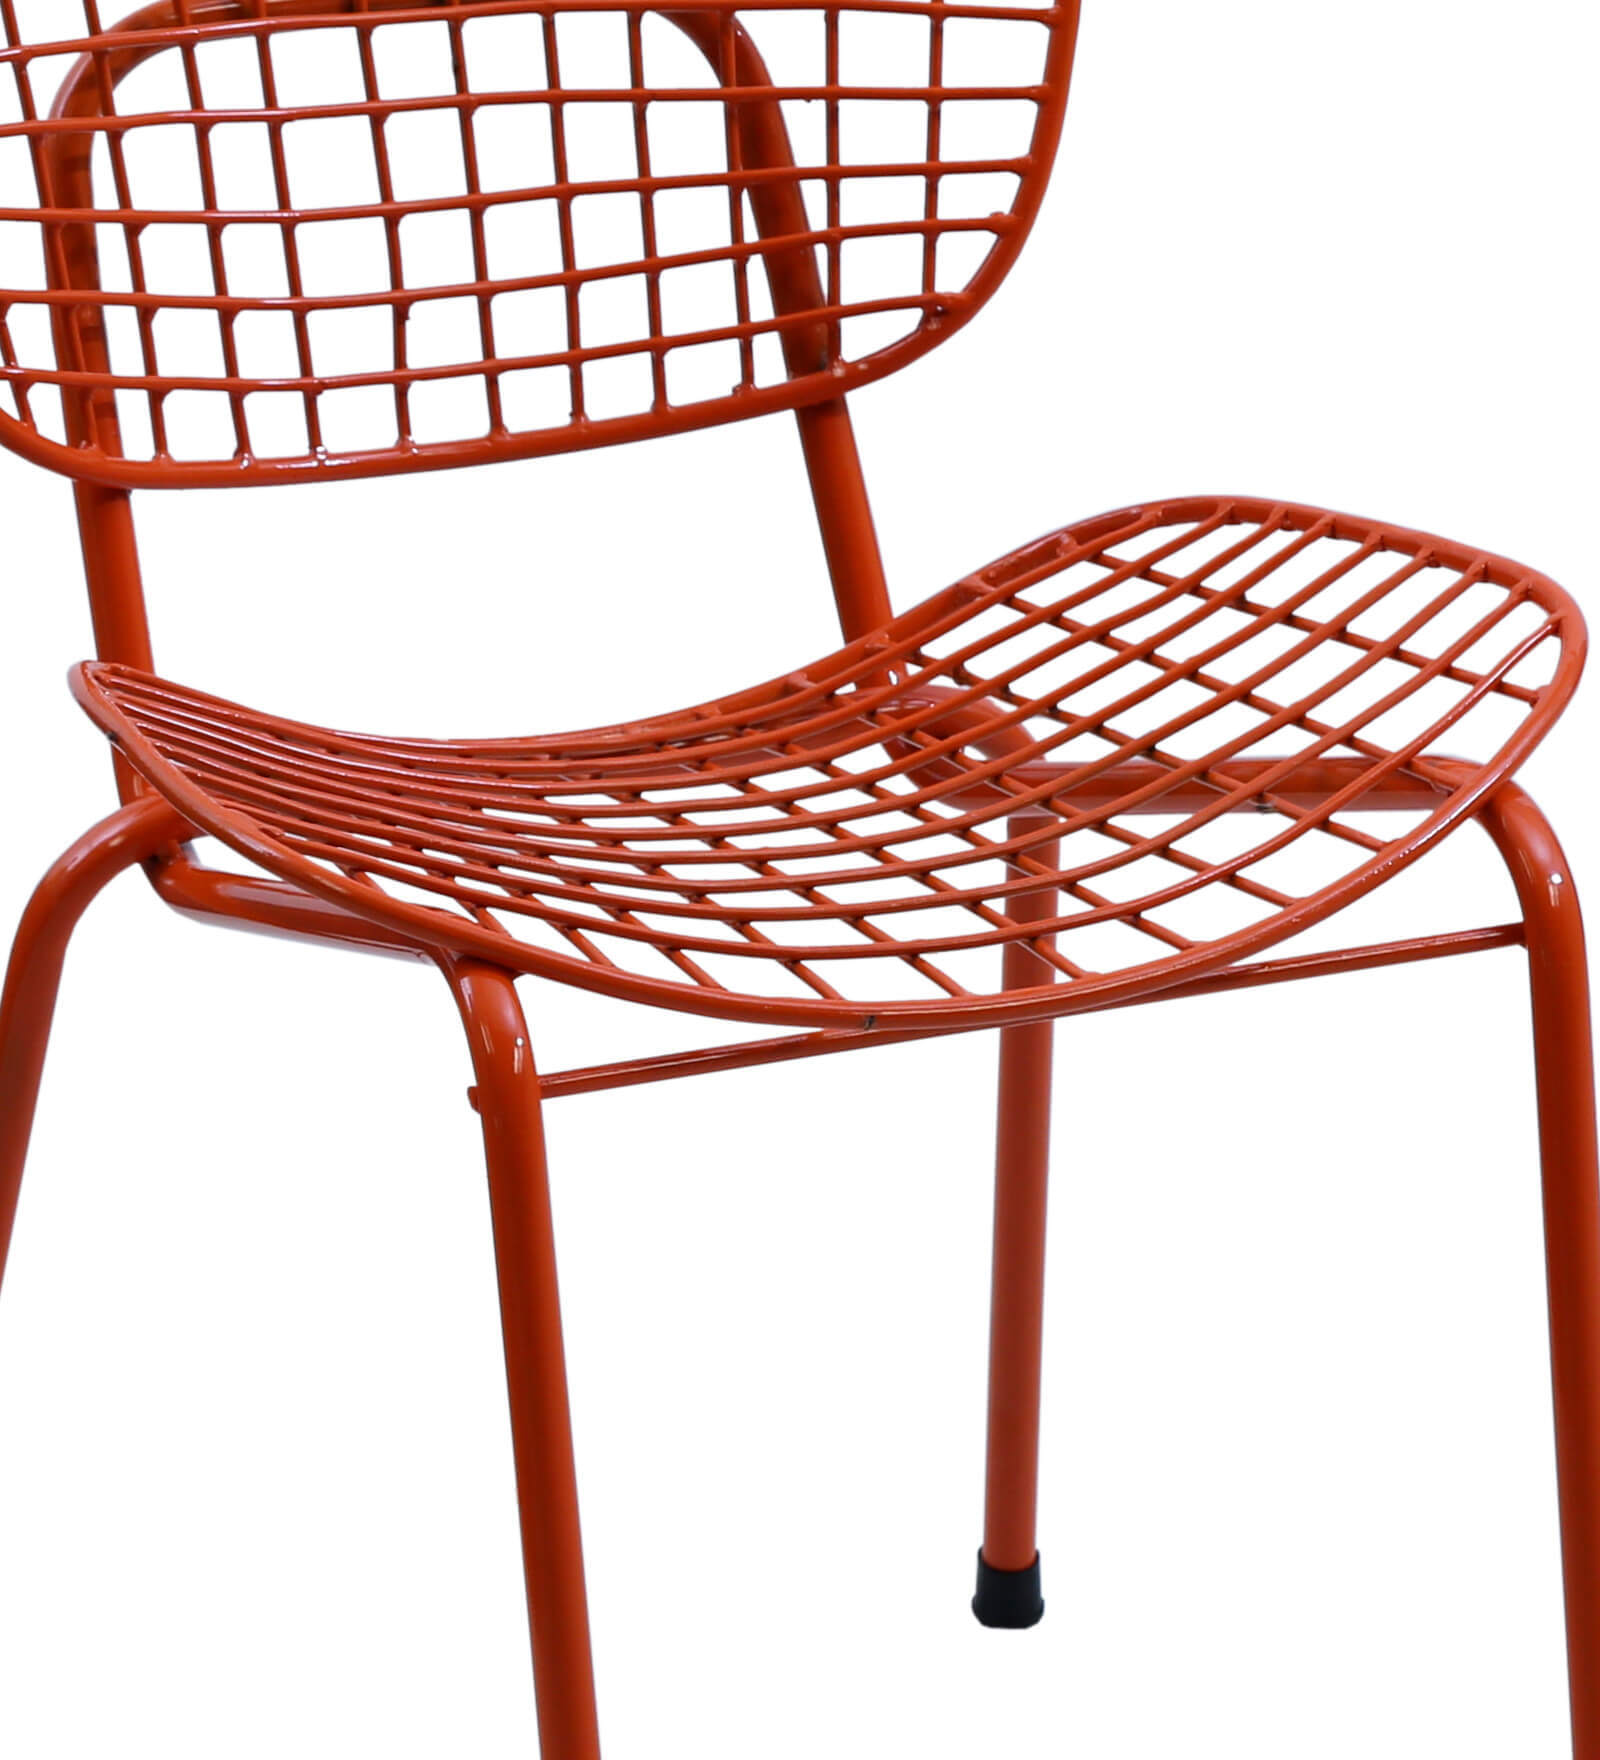Annette Metal Chair in Orange Color by Bohemiana: (18, 5, 1600, 1640)
